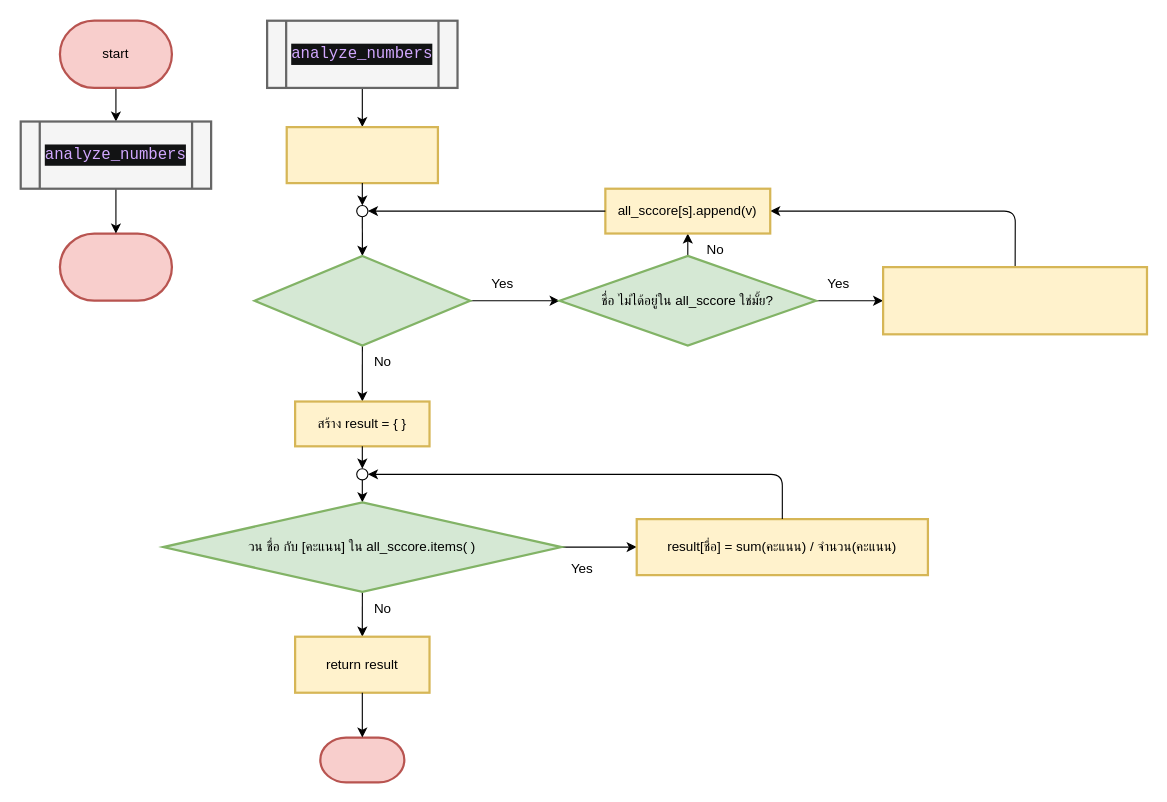
Image size: 1167x802. Some labels were removed from this diagram. The box of each missing label's shape, as (x1, y1, x2, y2) in pixels:
end: (58, 232, 172, 301)
stop: (319, 736, 405, 783)
วน ชื่อ พร้อมกับ คะแนน ในข้อมูล: (253, 254, 471, 346)
สร้าง all_sccore = { }: (285, 125, 438, 184)
เพิ่มชื่อเข้าไปใน all_sccore พร้อมกับ list ว่าง: (881, 265, 1148, 335)
